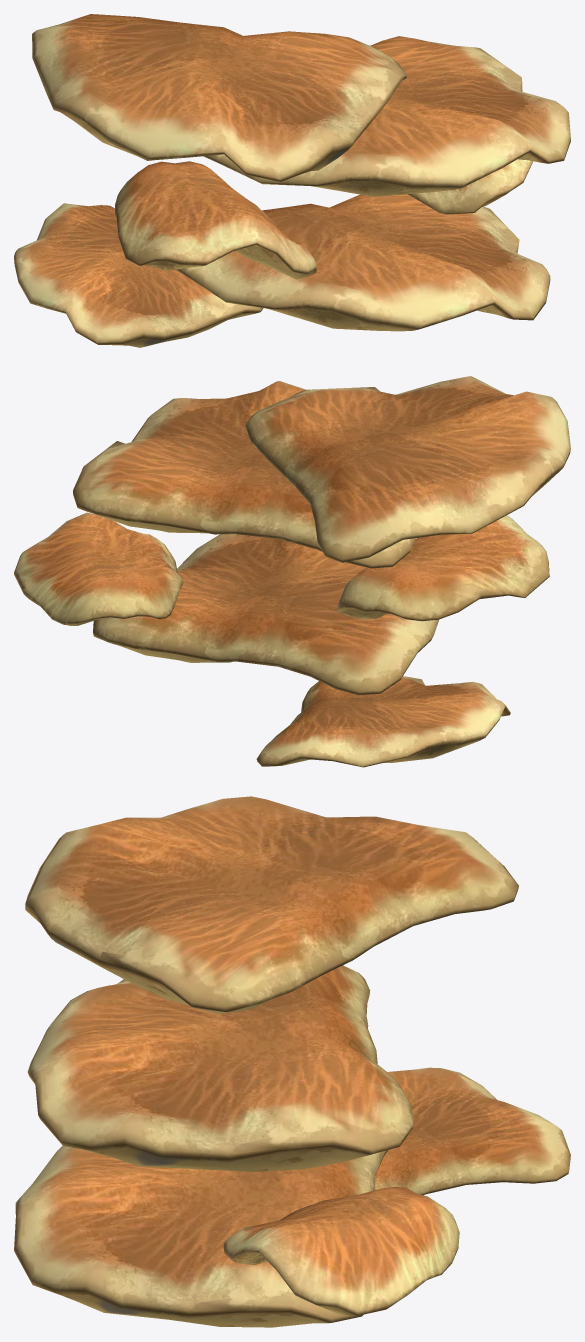
File: Mushroom_Laetiporus.glb
3 renders of one model, top to bottom at view 1: azimuth 30°, elevation 25°; view 2: azimuth 150°, elevation 25°; view 3: azimuth 270°, elevation 25°, orthographic. The views are drawn at different scales.
Visible parts, largest first — view 1: Mushroom_Laetiporus; view 2: Mushroom_Laetiporus; view 3: Mushroom_Laetiporus.
Boxes of the visible parts, box(x1,y1,x2,y2) form: Mushroom_Laetiporus: box(14, 14, 570, 347); Mushroom_Laetiporus: box(14, 376, 570, 767); Mushroom_Laetiporus: box(14, 796, 570, 1327).
Size of the model in its own units: 1.37 by 0.767 by 1.1.
1 material, 1 textured.
